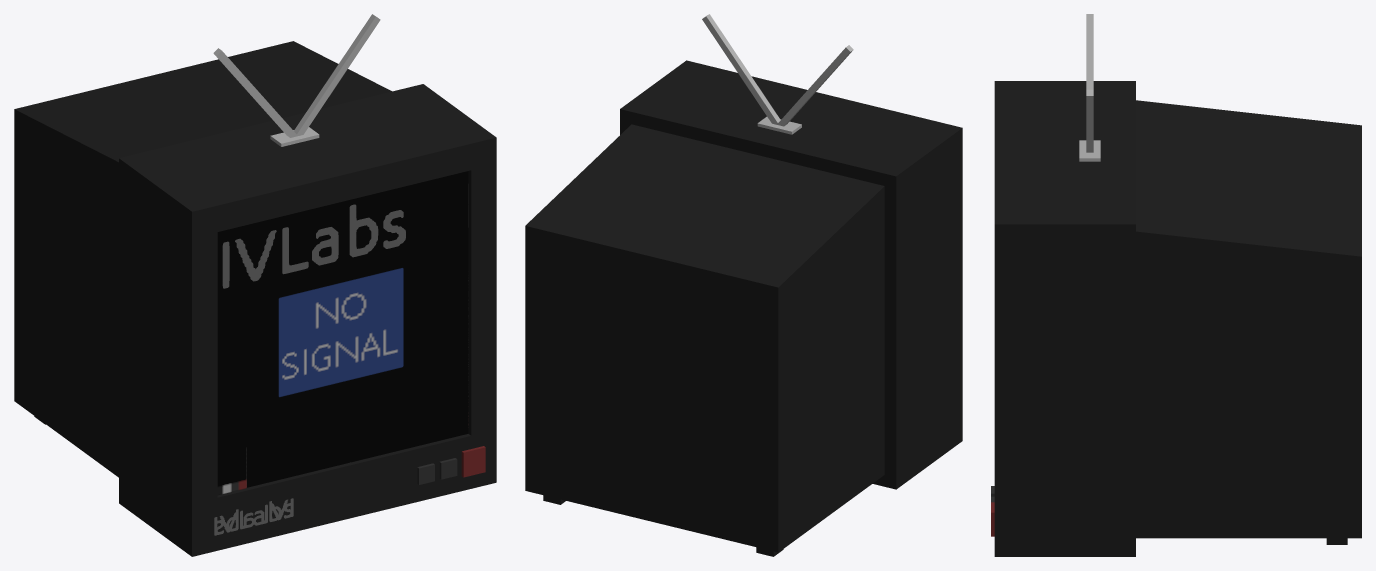
The model's file is television.obj.
The picture shows the model from 3 angles, left to right: view 1: azimuth 30°, elevation 25°; view 2: azimuth 150°, elevation 25°; view 3: azimuth 270°, elevation 25°; orthographic projection. The views are drawn at different scales.
Parts seen in each view (by area): view 1: cube, screenoff, imageURL, emblem_translucent; view 2: cube; view 3: cube.
Part boxes in pixels (x1,y1,x2,y2): cube: (14,14,496,556); screenoff: (217,171,468,487); imageURL: (217,184,468,495); emblem_translucent: (214,498,293,535); cube: (525,14,962,556); cube: (991,14,1361,556).
Size of the model in its own units: 0.75 by 1.07 by 0.8203.
